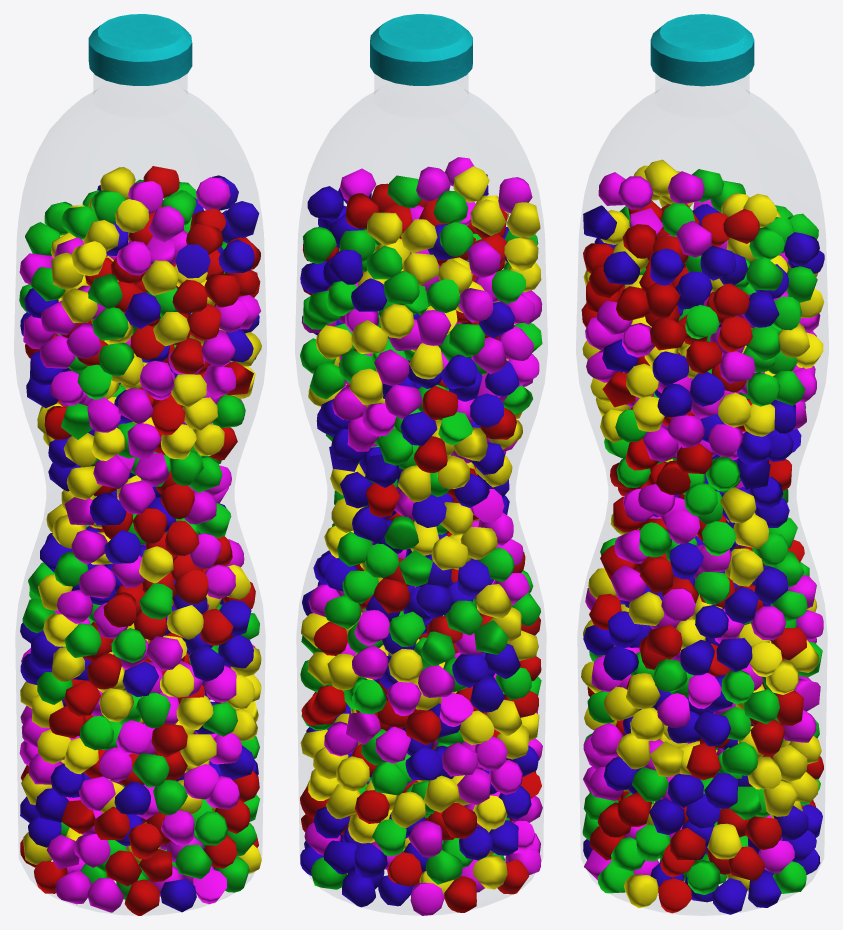
The model's file is 699_LowerPolycount.fbx.
3 views of the same model, side by side, from view 1: azimuth 30°, elevation 25°; view 2: azimuth 150°, elevation 25°; view 3: azimuth 270°, elevation 25° (orthographic).
Parts seen in each view (by area): view 1: VerdeGR3, Tapon; view 2: VerdeGR3, Tapon; view 3: VerdeGR3, Tapon.
Boxes of the visible parts, <box> form: VerdeGR3: <box>19,166,261,915</box>; Tapon: <box>88,14,192,85</box>; VerdeGR3: <box>300,157,542,915</box>; Tapon: <box>370,14,472,85</box>; VerdeGR3: <box>581,159,824,914</box>; Tapon: <box>650,14,754,86</box>.
Size of the model in its own units: 4.16 by 15.16 by 4.14.
